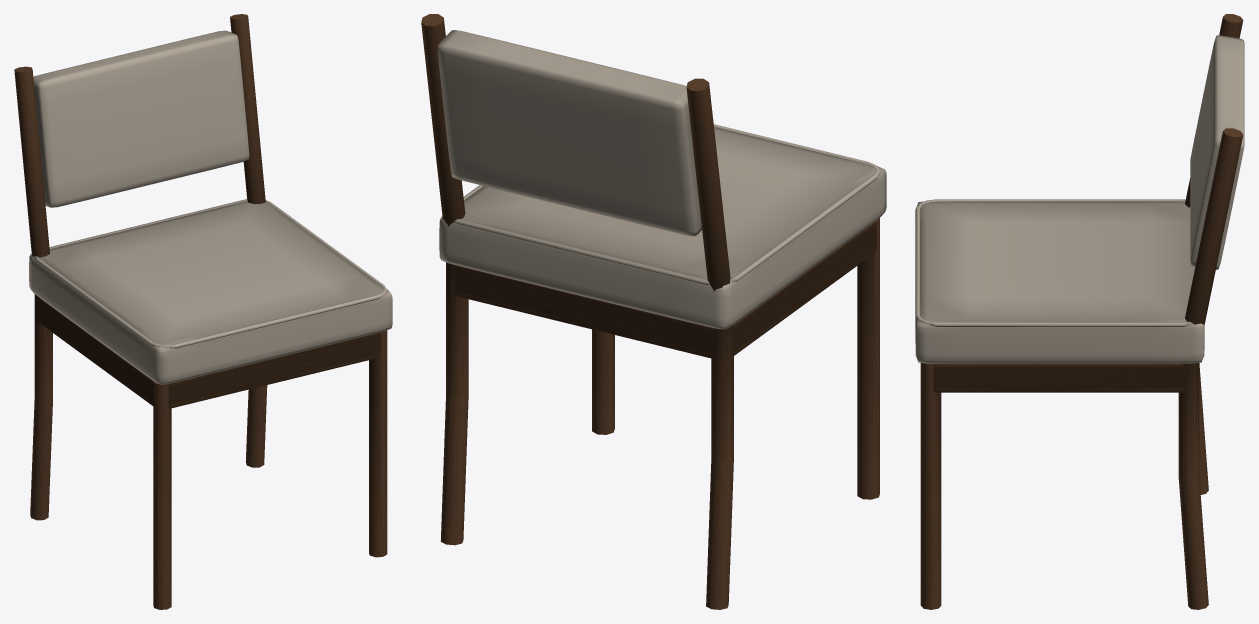
File: kitchen_chair.gltf
The picture shows the model from 3 angles, left to right: view 1: azimuth 30°, elevation 25°; view 2: azimuth 150°, elevation 25°; view 3: azimuth 270°, elevation 25°; orthographic projection. The views are drawn at different scales.
Parts seen in each view (by area): view 1: KitchenChair_Seat, KitchenChair_Back, KitchenChair_LegB-1, KitchenChair_RailF, KitchenChair_LegB1, KitchenChair_LegF-1, KitchenChair_LegF1, KitchenChair_RailL, KitchenChair_Seat_Piping; view 2: KitchenChair_Seat, KitchenChair_Back, KitchenChair_LegB-1, KitchenChair_LegB1, KitchenChair_RailB, KitchenChair_LegF-1, KitchenChair_RailL, KitchenChair_Seat_Piping, KitchenChair_LegF1; view 3: KitchenChair_Seat, KitchenChair_LegB1, KitchenChair_RailR, KitchenChair_Back, KitchenChair_LegF1, KitchenChair_Seat_Piping, KitchenChair_LegB-1.
Part boxes in pixels (x1,y1,x2,y2): KitchenChair_Seat: [29, 201, 392, 384]; KitchenChair_Back: [33, 30, 249, 207]; KitchenChair_LegB-1: [14, 66, 52, 520]; KitchenChair_RailF: [168, 333, 380, 408]; KitchenChair_LegB1: [230, 14, 267, 467]; KitchenChair_LegF-1: [153, 381, 171, 609]; KitchenChair_LegF1: [369, 330, 387, 557]; KitchenChair_RailL: [37, 298, 153, 406]; KitchenChair_Seat_Piping: [34, 199, 387, 348]; KitchenChair_Seat: [439, 127, 886, 329]; KitchenChair_Back: [437, 30, 701, 236]; KitchenChair_LegB-1: [686, 78, 733, 609]; KitchenChair_LegB1: [421, 14, 468, 545]; KitchenChair_RailB: [454, 265, 714, 358]; KitchenChair_LegF-1: [857, 218, 879, 499]; KitchenChair_RailL: [733, 222, 876, 356]; KitchenChair_Seat_Piping: [453, 124, 880, 284]; KitchenChair_LegF1: [592, 329, 614, 434]; KitchenChair_Seat: [915, 201, 1204, 363]; KitchenChair_LegB1: [1178, 128, 1243, 609]; KitchenChair_RailR: [933, 363, 1186, 392]; KitchenChair_Back: [1190, 35, 1244, 269]; KitchenChair_LegF1: [920, 363, 941, 609]; KitchenChair_Seat_Piping: [915, 199, 1192, 326]; KitchenChair_LegB-1: [1185, 14, 1243, 494].
Bounding box in the file's own units: 0.47 × 0.8331 × 0.5233.
Materials: 2 (1 with a texture image).
